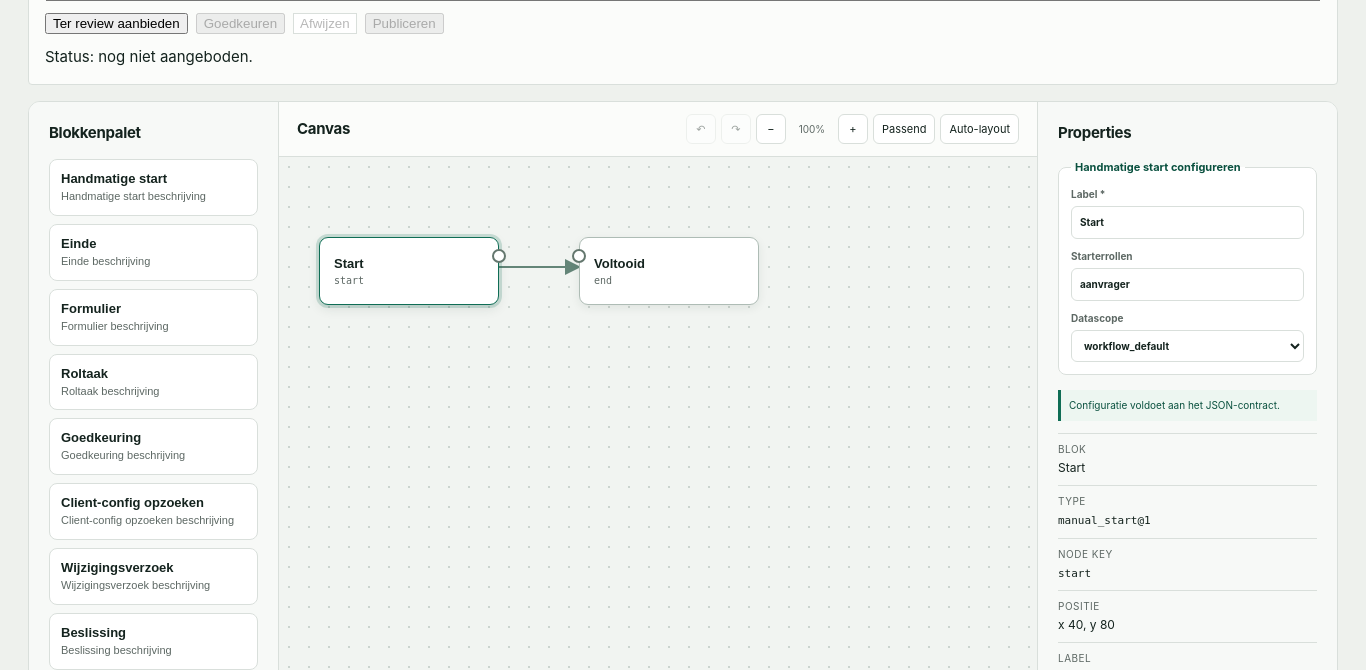
Test: WorkflowEditorShell › adds a block through the keyboard-accessible palette button
(page scrolled)
Click the button "Formulier Formulier beschrijving" at (154, 317), box [49,289,258,346]
(page scrolled)
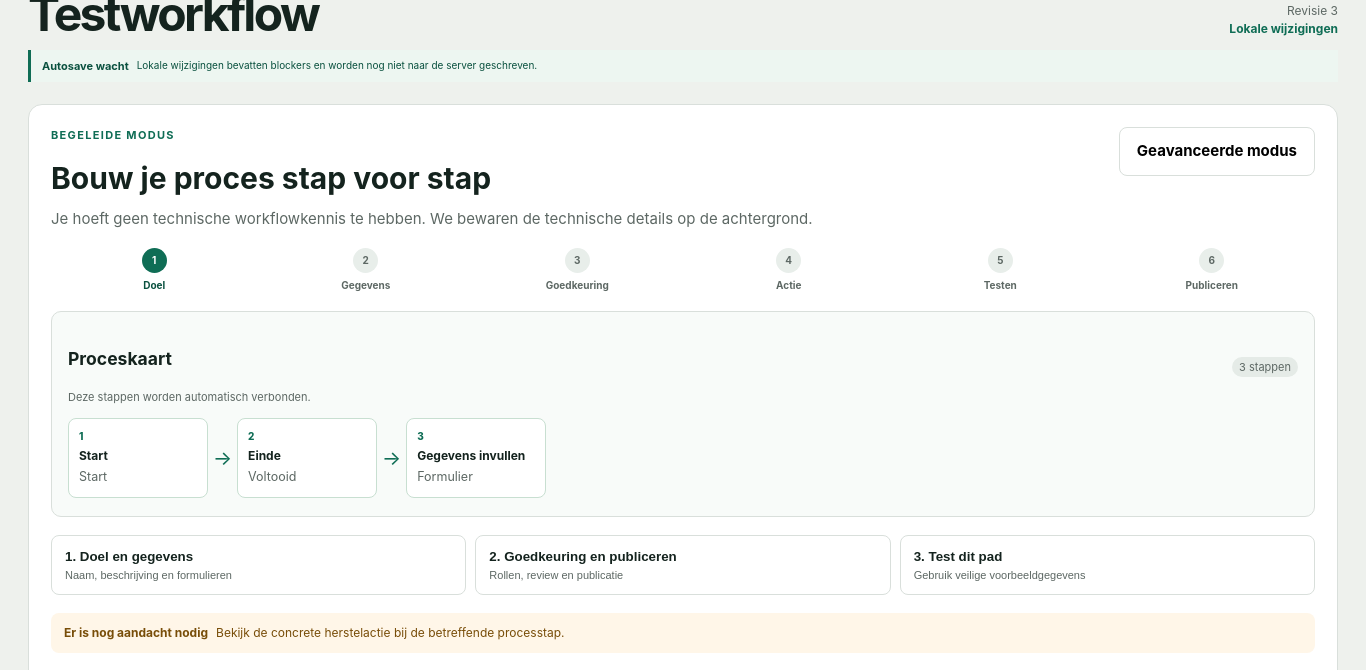
expect the text "Lokale wijzigingen" is shown: met, box [1229,20,1338,38]
